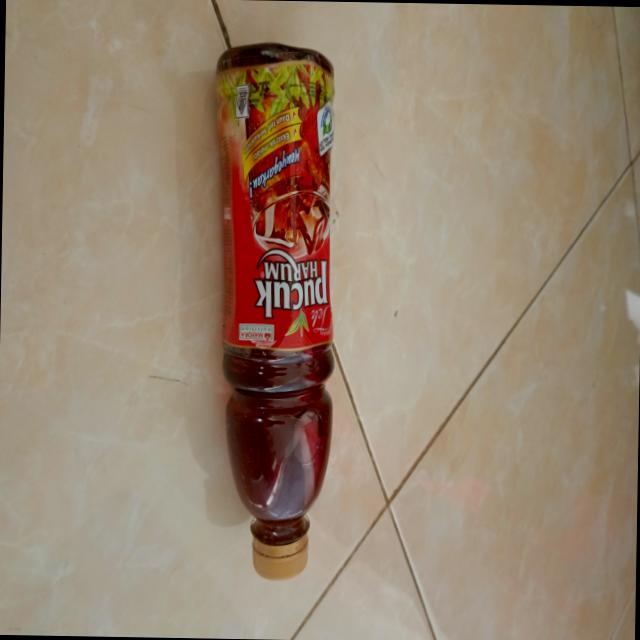teh-pucuk: (205, 38, 338, 580)
